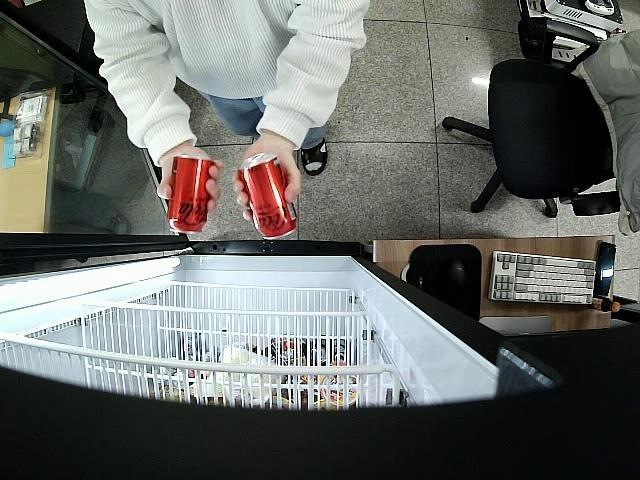11_cocaColaZero: (237, 153, 297, 241), (168, 152, 216, 234)
